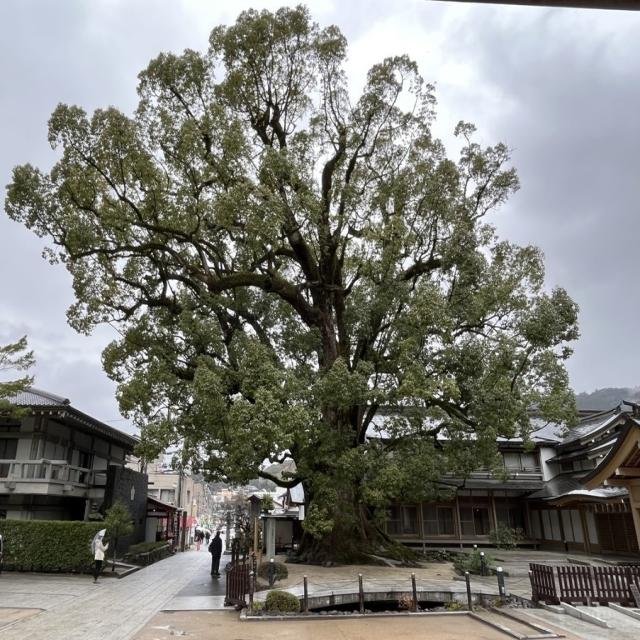camphor: (3, 5, 580, 543)
